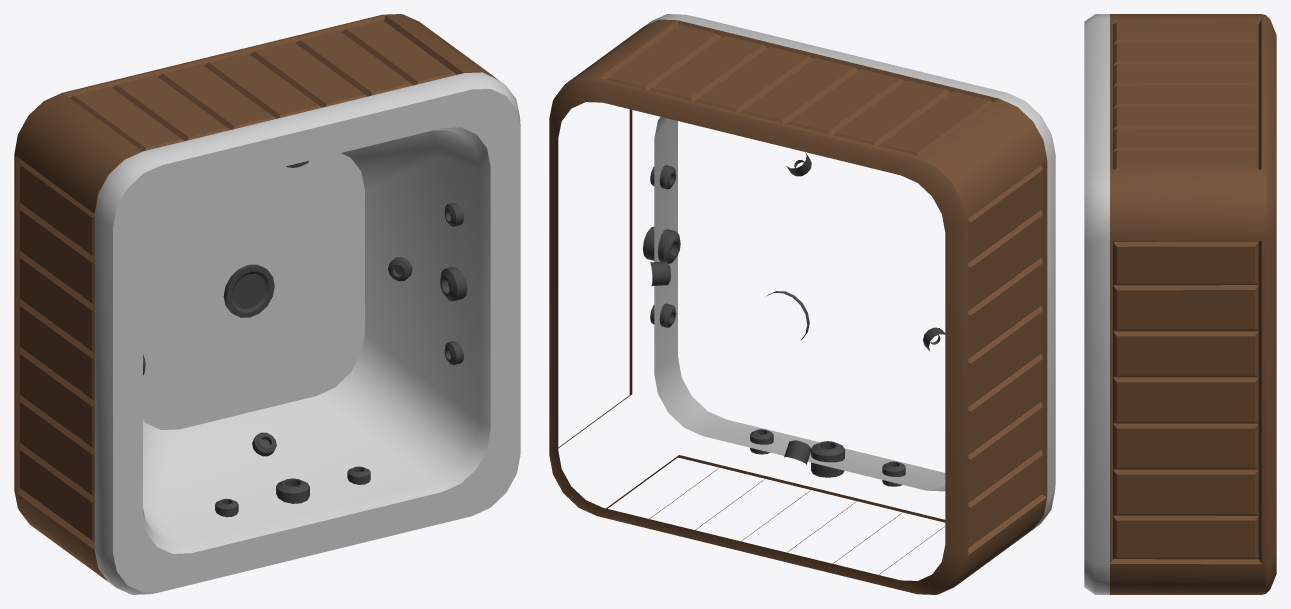
The model's file is hot_tub.glb.
3 views of the same model, side by side, from view 1: azimuth 30°, elevation 25°; view 2: azimuth 150°, elevation 25°; view 3: azimuth 270°, elevation 25° (orthographic). The views are drawn at different scales.
Parts seen in each view (by area): view 1: hot_tub; view 2: hot_tub; view 3: hot_tub.
Part boxes in pixels (x1,y1,x2,y2): hot_tub: (14, 14, 520, 594); hot_tub: (549, 14, 1055, 594); hot_tub: (1084, 14, 1276, 594).
Size of the model in its own units: 3.18 by 3.18 by 1.32.
